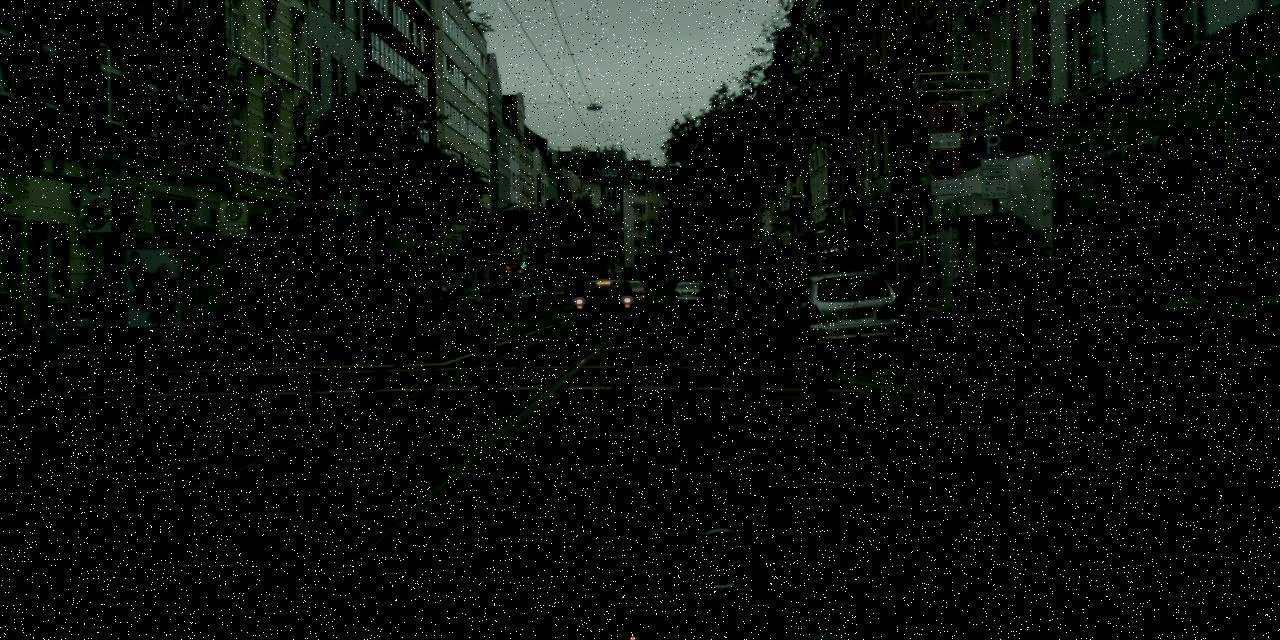ped: (147, 263, 182, 350), (218, 274, 246, 340)
